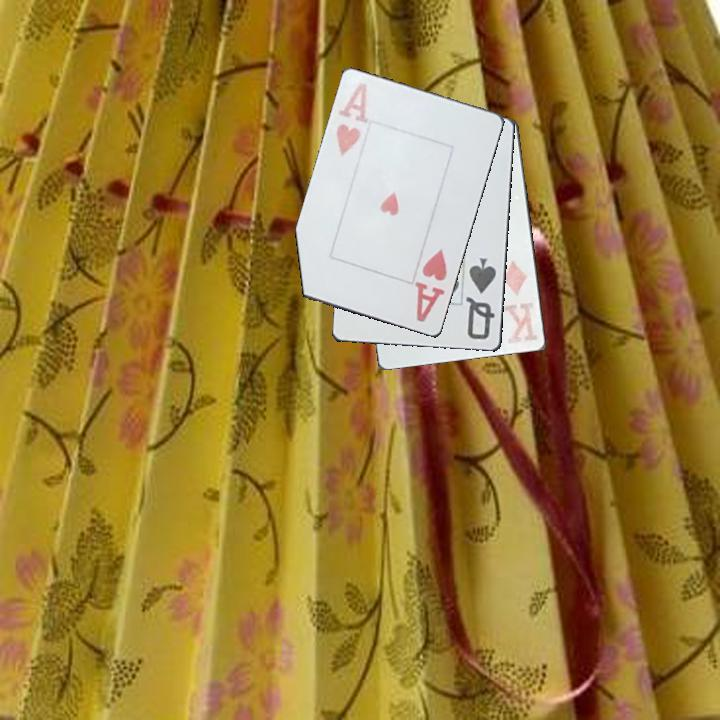Ah: (333, 79, 372, 160), (411, 246, 450, 325)
Kd: (499, 258, 541, 347)
Qs: (462, 255, 500, 343)
